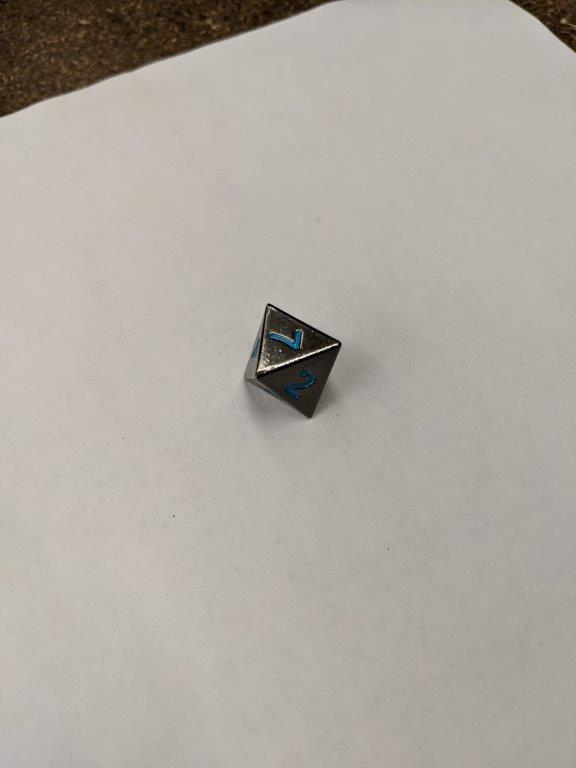d8-7: (242, 303, 343, 418)
